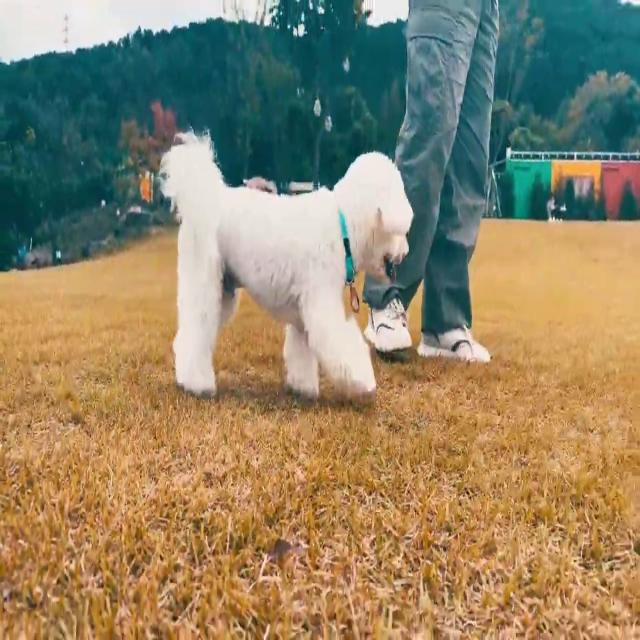Unleashed_Dog: (157, 0, 475, 401)
